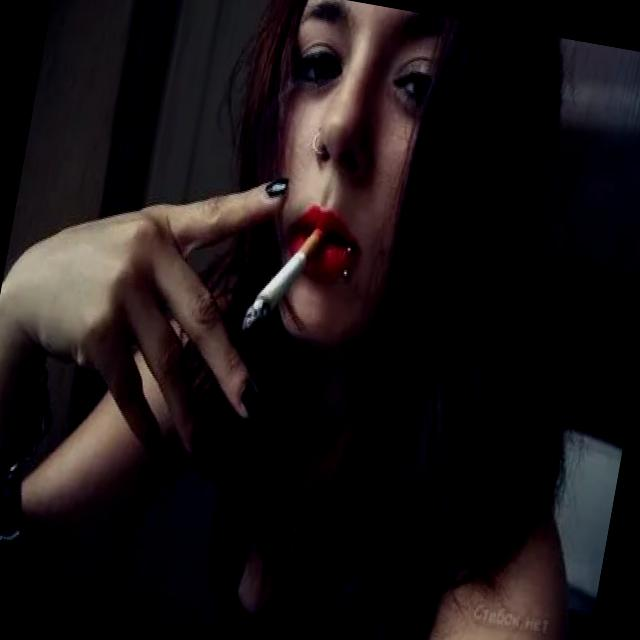smoke: (236, 210, 330, 346)
